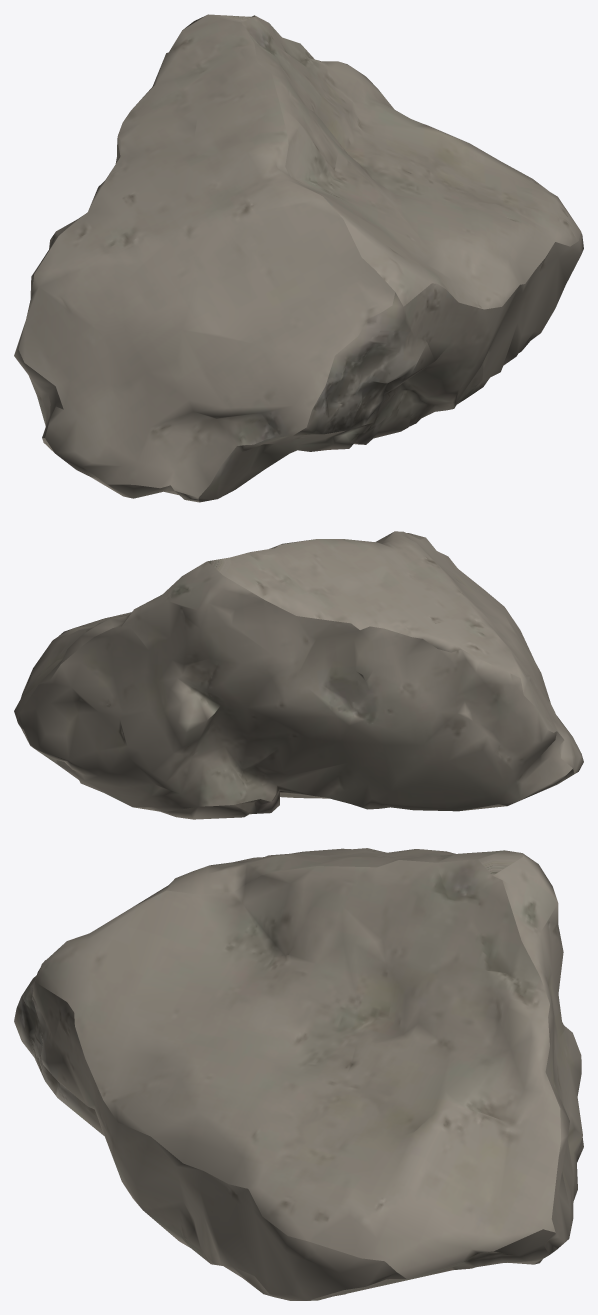
Rendered from moon_rock_b.glb.
The picture shows the model from 3 angles, top to bottom: view 1: azimuth 30°, elevation 25°; view 2: azimuth 150°, elevation 25°; view 3: azimuth 270°, elevation 25°; orthographic projection. The views are drawn at different scales.
Parts seen in each view (by area): view 1: moon_rock_03_LOD0; view 2: moon_rock_03_LOD0; view 3: moon_rock_03_LOD0.
Boxes of the visible parts, x1,y1,x2,y2 form: moon_rock_03_LOD0: (14, 14, 583, 502); moon_rock_03_LOD0: (14, 531, 583, 819); moon_rock_03_LOD0: (14, 848, 583, 1300).
Size of the model in its own units: 1.16 by 0.6 by 0.8878.
1 material, 1 textured.
